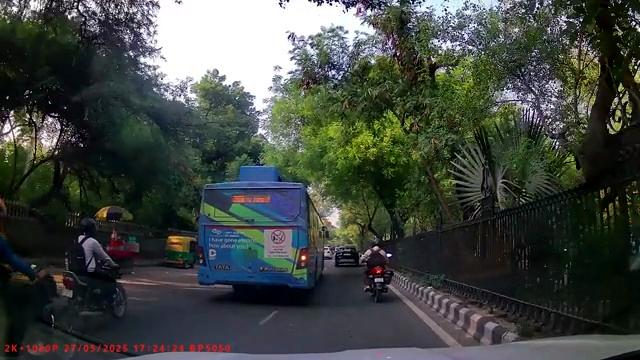motorcycle_with_helmet: (59, 216, 129, 323), (361, 239, 393, 303)
